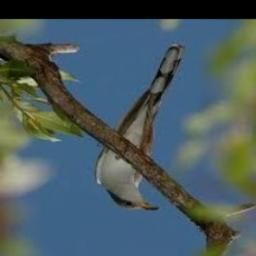Cuckoo: (95, 43, 184, 212)
